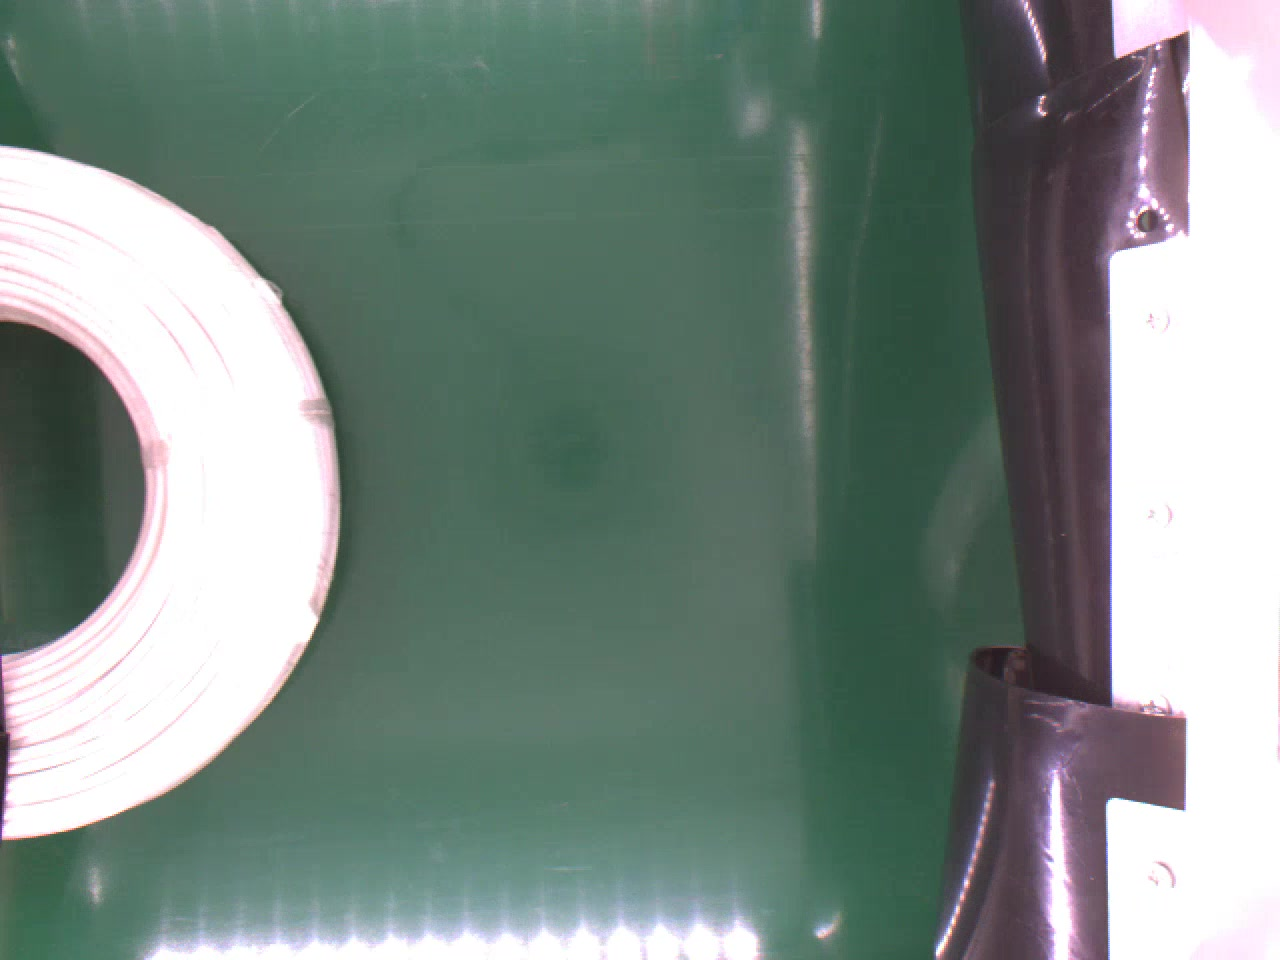white: (0, 142, 345, 842)
